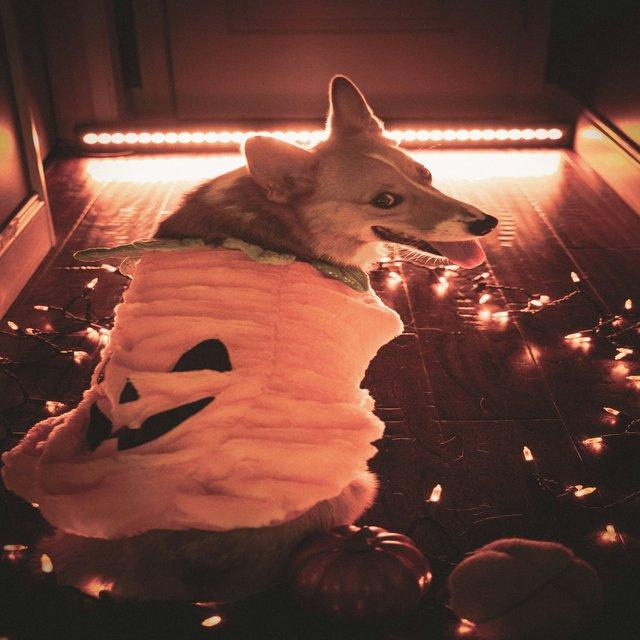corgi: (37, 69, 506, 599)
